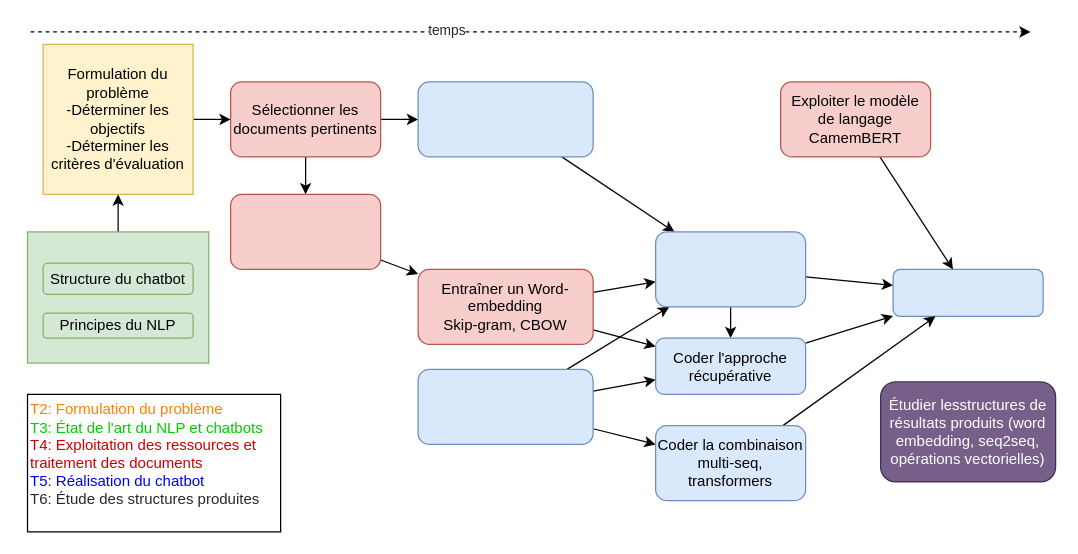
This 1078x554 diagram has some shape labels left out. Each missing label, with the centre of its shape:
Coder l'approche générative: (x=730, y=269)
Dresser la liste des questions et réponses courantes: (x=505, y=119)
Prétraiter les données textuelles: (x=305, y=231)
Spécifier les caractéristiques du chatbot: (x=505, y=406)
Utilisation et tests du chatbot: (x=967, y=292)
